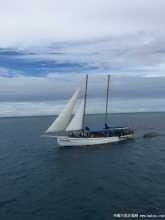fanchuan: (42, 71, 132, 147)
